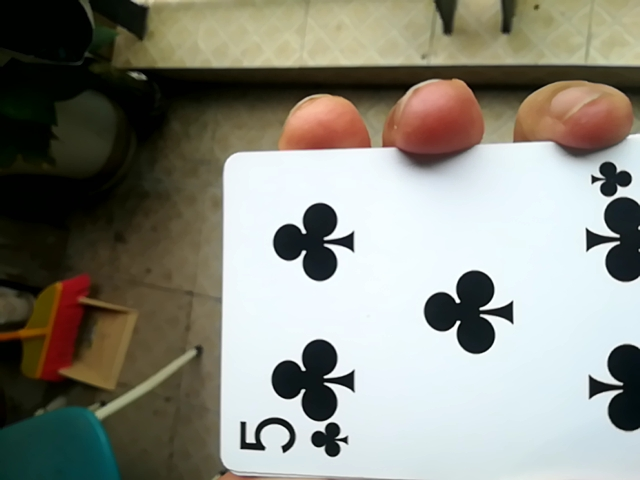mh 5: (219, 142, 637, 480)
